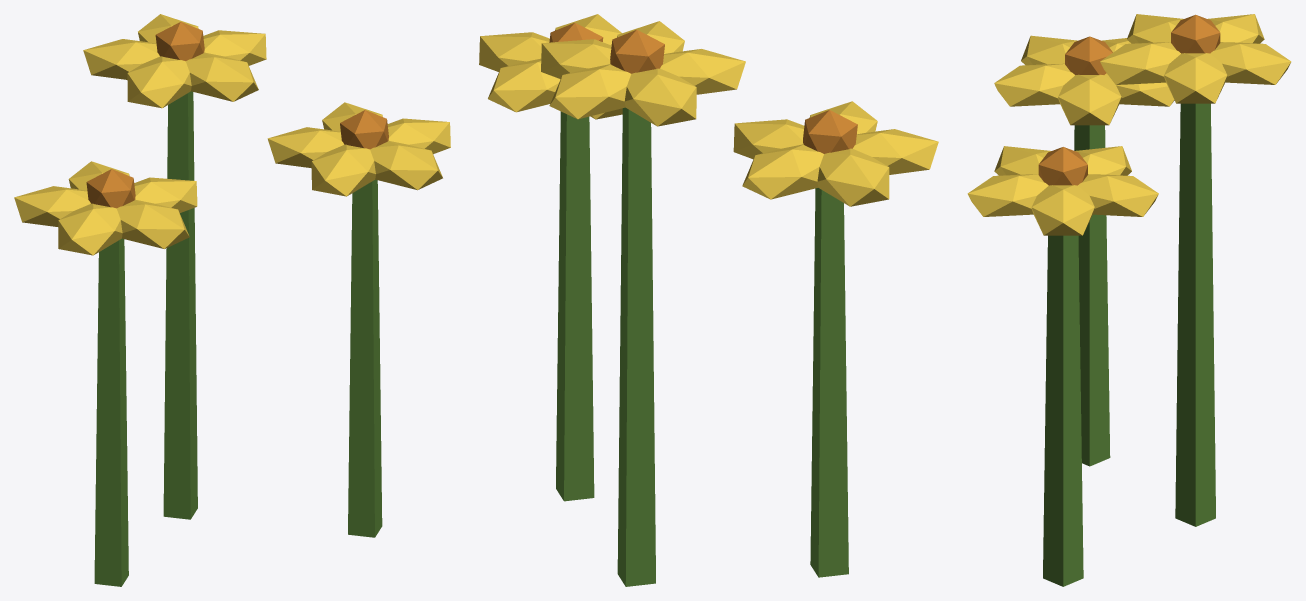
Rendered from wildflower_1.glb.
The picture shows the model from 3 angles, left to right: view 1: azimuth 30°, elevation 25°; view 2: azimuth 150°, elevation 25°; view 3: azimuth 270°, elevation 25°; orthographic projection. The views are drawn at different scales.
Parts seen in each view (by area): view 1: wildflower_1; view 2: wildflower_1; view 3: wildflower_1.
Boxes of the visible parts, left/top/right/bottom form: wildflower_1: left=14, top=14, right=450, bottom=586; wildflower_1: left=479, top=14, right=938, bottom=586; wildflower_1: left=967, top=14, right=1291, bottom=586.
Bounding box in the file's own units: 0.1616 × 0.191 × 0.1114.
